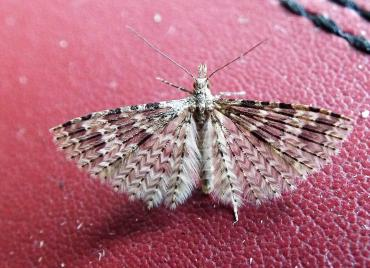Alucitidae: (48, 17, 355, 220)
moth: (50, 19, 357, 222)
